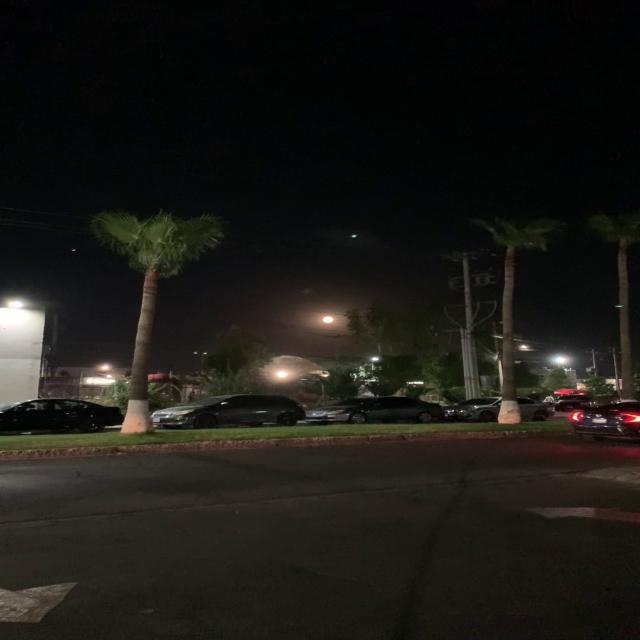moon: (319, 314, 337, 326)
